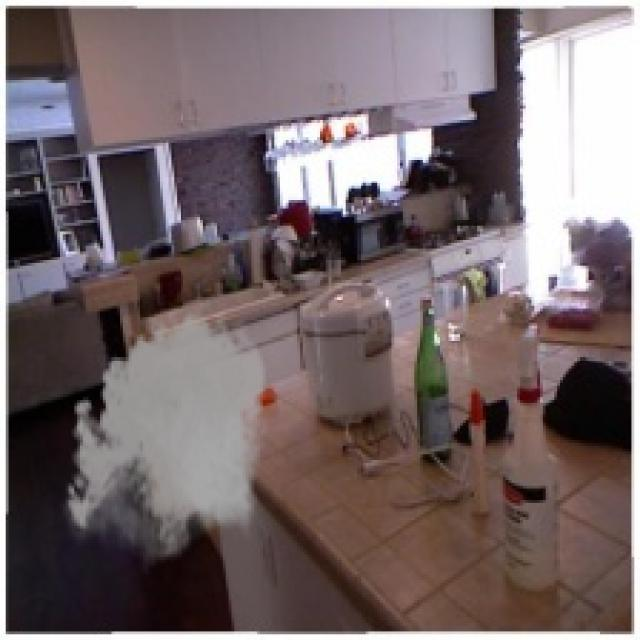Smoke: (59, 300, 274, 574)
